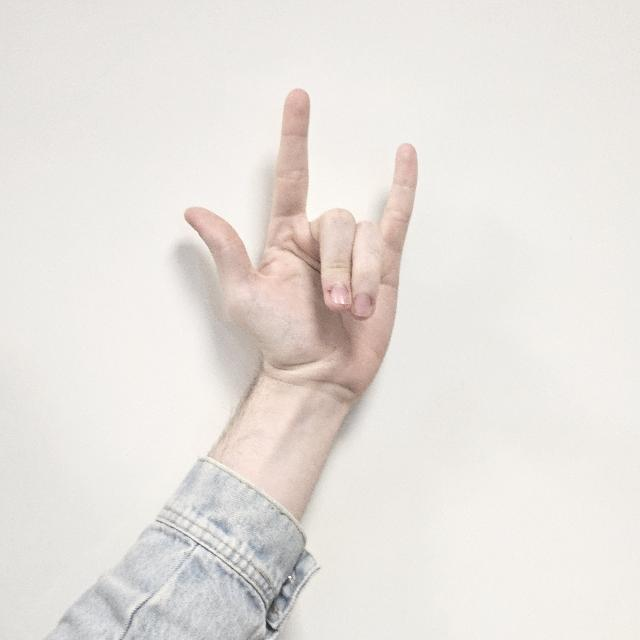Cima: (184, 83, 420, 405)
